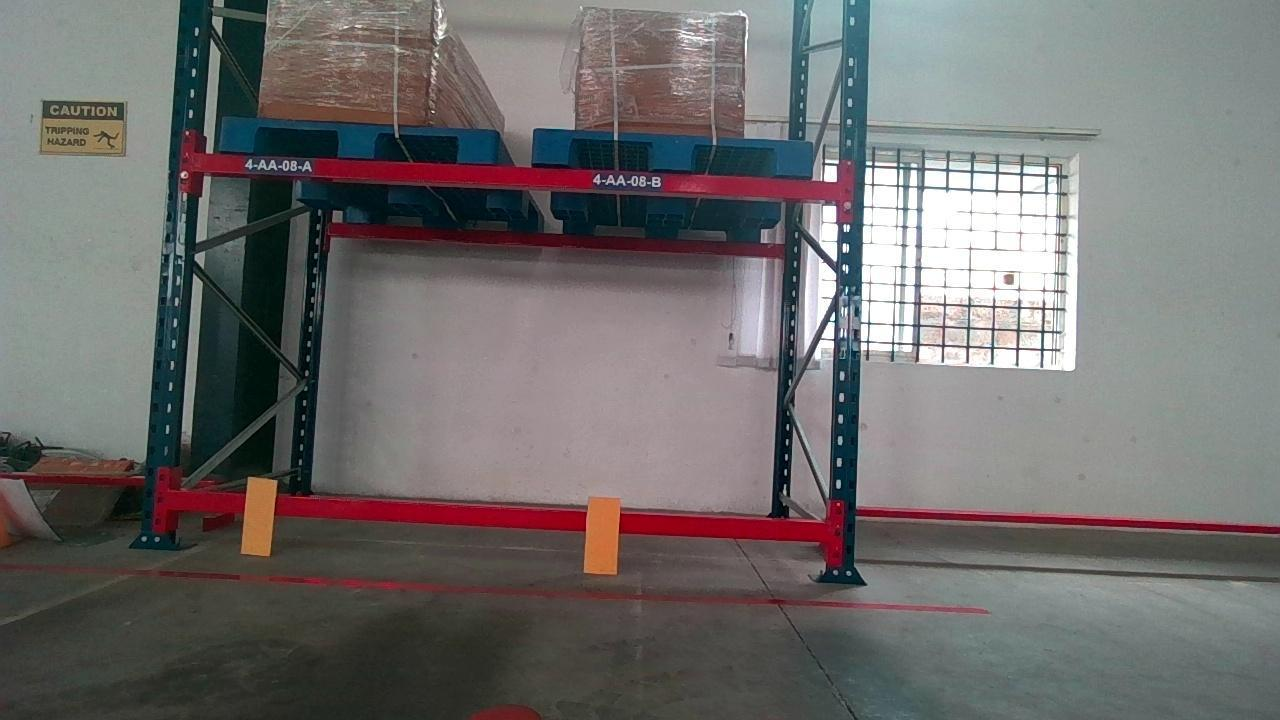h_rack: (172, 484, 835, 543), (204, 151, 847, 197)
orange_strip: (584, 496, 621, 572), (240, 477, 277, 553)
red_line: (37, 559, 986, 613)
small_pallet: (542, 132, 814, 171), (221, 120, 496, 158)
